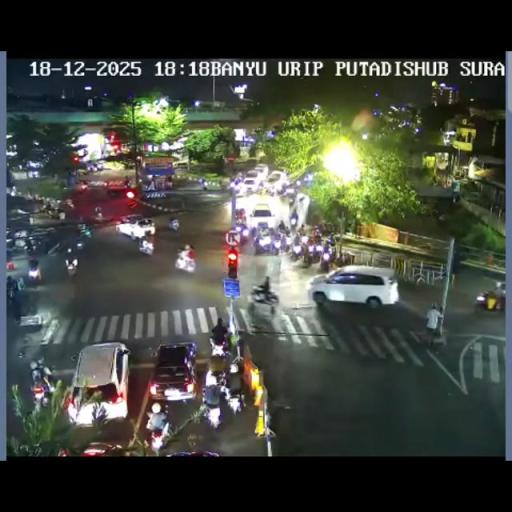Car: (68, 342, 130, 425), (309, 266, 399, 308), (148, 342, 198, 402), (474, 282, 505, 312), (116, 218, 154, 239), (249, 202, 275, 232), (75, 441, 126, 455), (106, 178, 136, 198), (265, 170, 288, 192), (242, 176, 262, 193), (252, 164, 270, 178)
Motorcycle: (144, 404, 170, 451), (30, 365, 54, 407), (252, 274, 278, 312), (6, 276, 26, 319), (422, 305, 442, 346), (203, 364, 227, 394), (208, 339, 230, 369), (225, 384, 244, 418), (204, 400, 222, 430), (253, 230, 274, 254), (177, 243, 194, 270), (232, 222, 250, 244), (28, 262, 42, 286), (334, 250, 352, 268), (310, 239, 326, 259), (290, 239, 304, 260), (138, 238, 154, 256), (324, 244, 336, 266), (66, 256, 78, 277), (47, 206, 66, 219), (29, 195, 45, 210), (302, 244, 312, 266), (282, 232, 294, 250), (61, 198, 74, 213), (74, 234, 86, 250), (24, 237, 36, 253), (277, 222, 289, 237), (325, 232, 336, 248), (79, 225, 92, 238), (74, 181, 87, 194), (167, 218, 179, 232), (228, 360, 238, 374), (250, 224, 259, 239), (238, 210, 246, 224), (229, 180, 238, 192), (312, 226, 321, 238), (164, 178, 173, 190), (260, 224, 269, 236), (298, 223, 306, 236), (94, 210, 104, 220), (86, 162, 95, 172), (95, 161, 105, 170), (301, 234, 309, 244), (260, 186, 268, 195), (287, 196, 294, 206), (202, 181, 207, 190)
